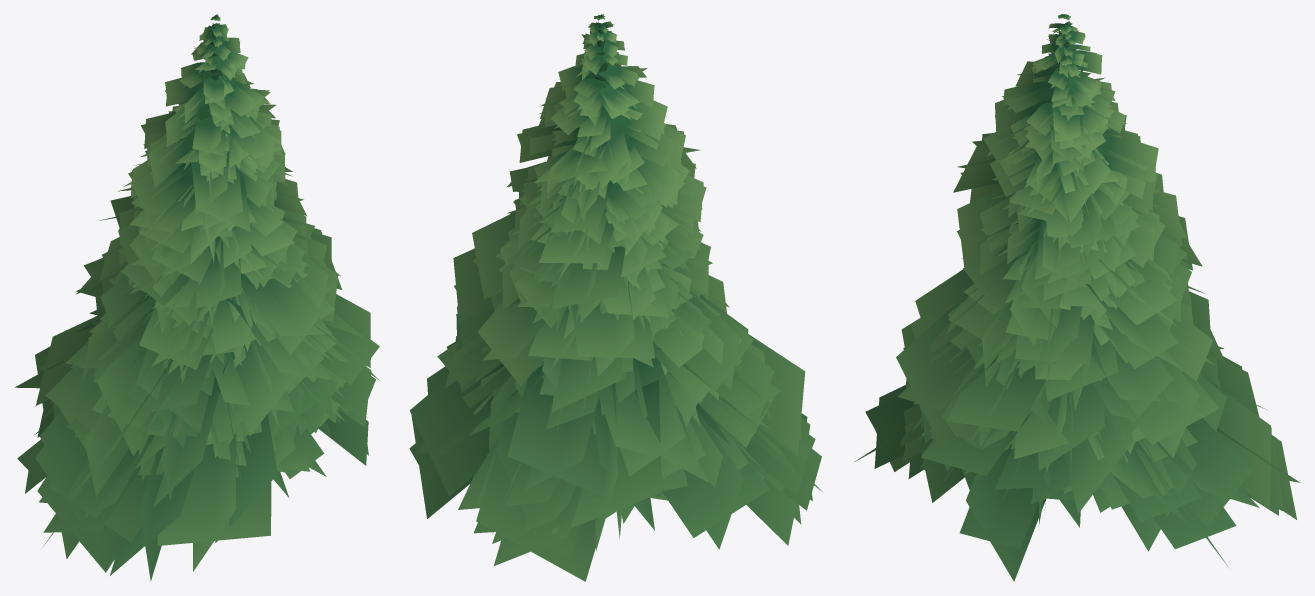
File: pine_a.glb
The picture shows the model from 3 angles, left to right: view 1: azimuth 30°, elevation 25°; view 2: azimuth 150°, elevation 25°; view 3: azimuth 270°, elevation 25°; orthographic projection. The views are drawn at different scales.
Parts seen in each view (by area): view 1: NeedleCards; view 2: NeedleCards; view 3: NeedleCards.
Part boxes in pixels (<box>): NeedleCards: <box>15,14,379,581</box>; NeedleCards: <box>409,14,822,581</box>; NeedleCards: <box>854,14,1300,581</box>.
Size of the model in its own units: 8.31 by 11.71 by 9.06.
